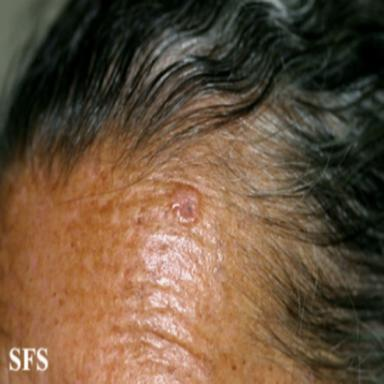basal-cell-carcinoma: (171, 184, 201, 226)
